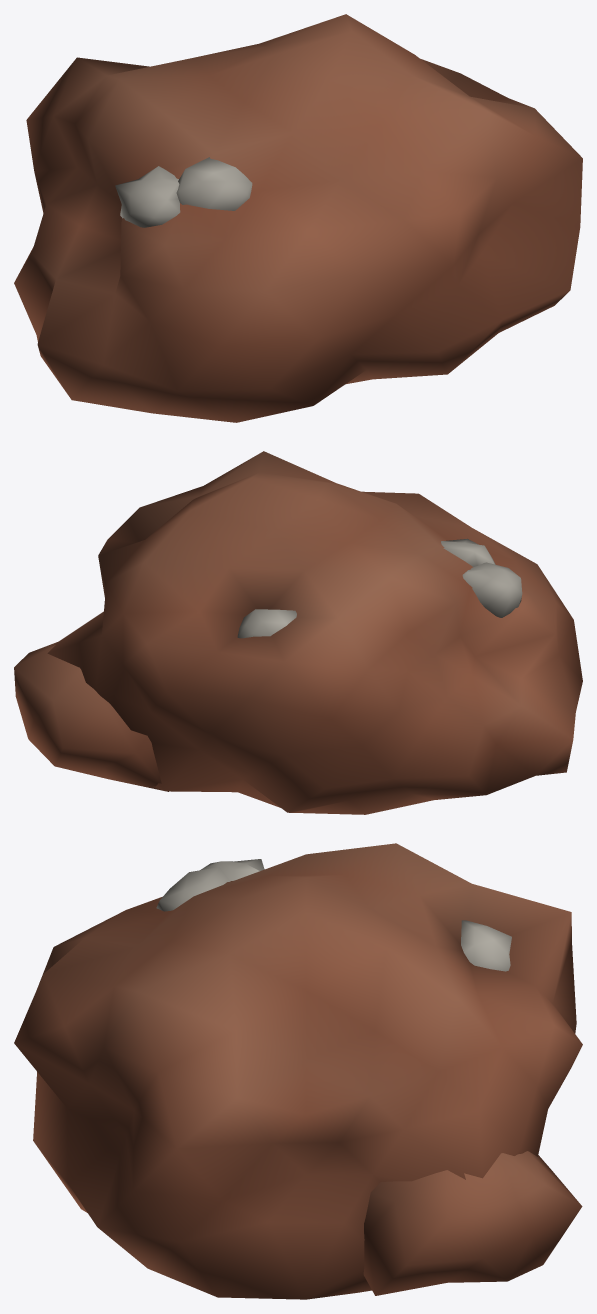
Rendered from clay_raw.glb.
3 views of the same model, one above another, from view 1: azimuth 30°, elevation 25°; view 2: azimuth 150°, elevation 25°; view 3: azimuth 270°, elevation 25° (orthographic). The views are drawn at different scales.
Parts seen in each view (by area): view 1: clay_raw; view 2: clay_raw; view 3: clay_raw.
Part boxes in pixels (left/top/right/bottom): clay_raw: left=14, top=14, right=582, bottom=422; clay_raw: left=14, top=451, right=582, bottom=814; clay_raw: left=14, top=843, right=582, bottom=1299.
Size of the model in its own units: 0.1146 by 0.0593 by 0.0968.
